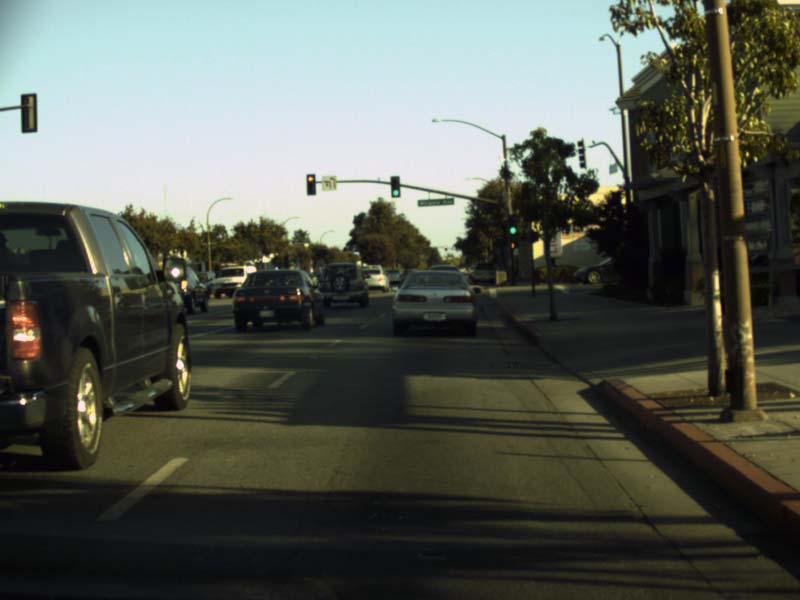Green: (390, 175, 400, 196), (509, 217, 517, 237)
Red: (306, 173, 316, 194), (444, 244, 447, 250)
